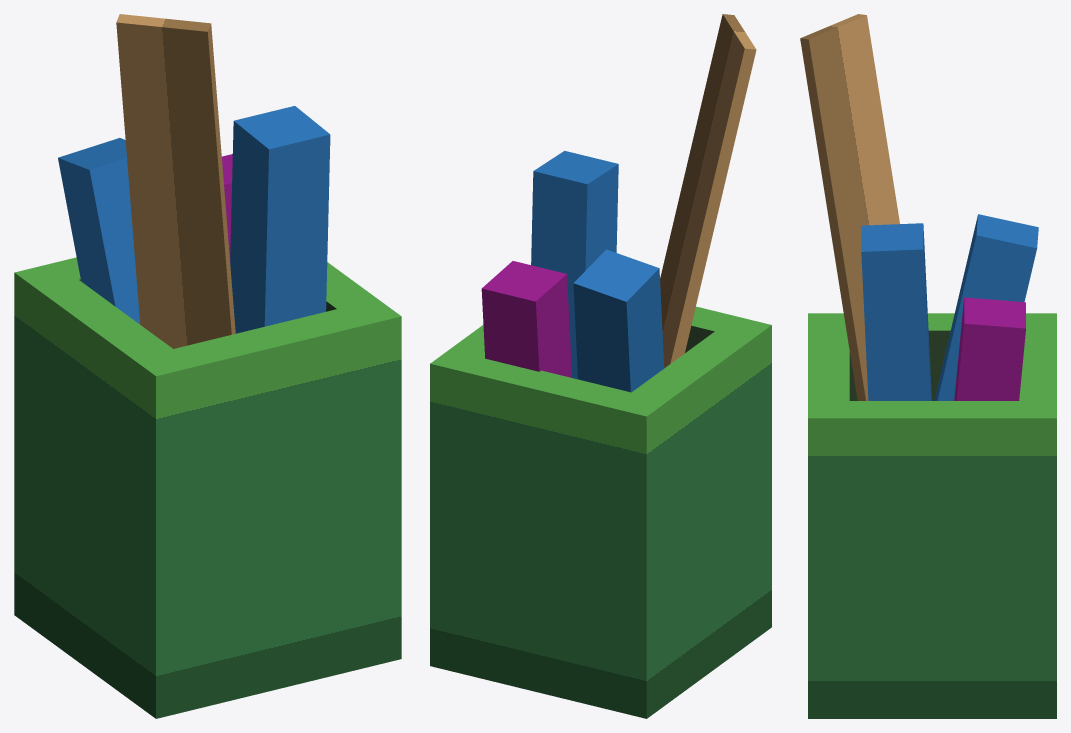
Rendered from Organizier_02.fbx.
3 views of the same model, side by side, from view 1: azimuth 30°, elevation 25°; view 2: azimuth 150°, elevation 25°; view 3: azimuth 270°, elevation 25° (orthographic). The views are drawn at different scales.
Visible parts, largest first — view 1: mesh, cube_2, cube_1, cube_3, cube; view 2: mesh, cube_2, cube_3, cube_1, cube; view 3: mesh, cube_2, cube_1, cube_3, cube.
Boxes of the visible parts, x1,y1,x2,y2 form: mesh: (14, 257, 401, 718); cube_2: (116, 14, 235, 348); cube_1: (230, 106, 330, 333); cube_3: (58, 138, 140, 324); cube: (222, 154, 232, 261); mesh: (430, 306, 771, 718); cube_2: (660, 14, 756, 367); cube_3: (573, 249, 664, 392); cube_1: (531, 150, 618, 379); cube: (481, 261, 572, 377); mesh: (808, 313, 1056, 718); cube_2: (800, 14, 899, 400); cube_1: (861, 223, 931, 400); cube_3: (934, 214, 1038, 400); cube: (954, 297, 1025, 400).
Bounding box in the file's own units: 19.6 × 49.74 × 19.35.
1 material, 1 textured.
